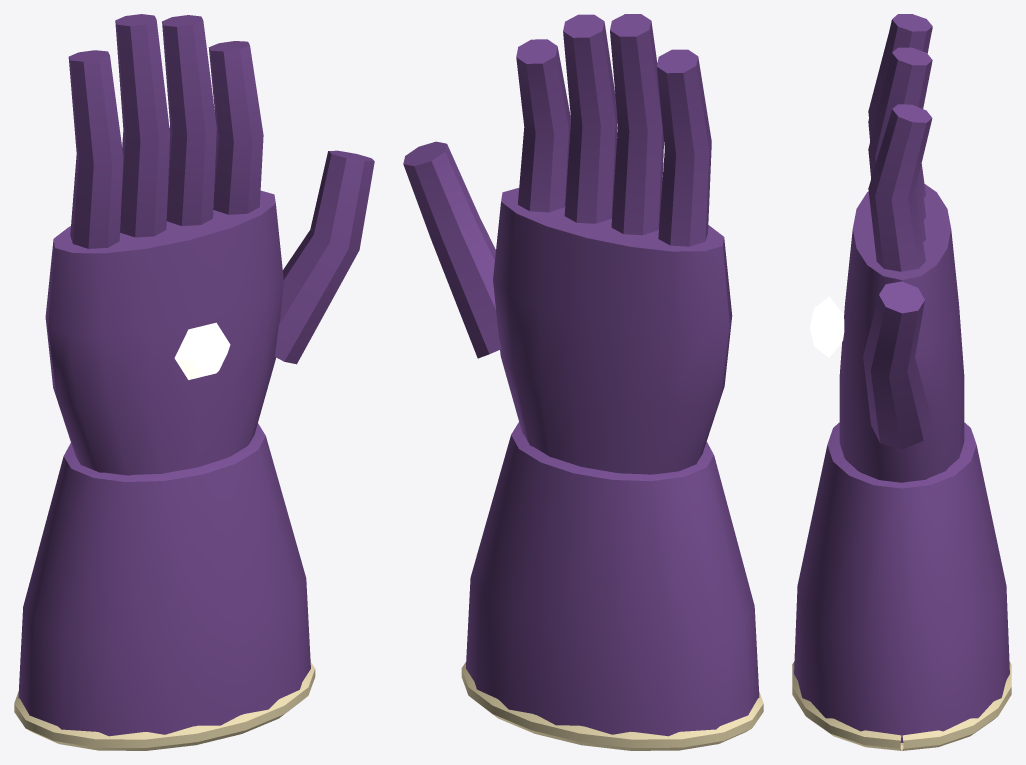
Rendered from sage_gloves.glb.
The picture shows the model from 3 angles, left to right: view 1: azimuth 30°, elevation 25°; view 2: azimuth 150°, elevation 25°; view 3: azimuth 270°, elevation 25°; orthographic projection. The views are drawn at different scales.
Visible parts, largest first — view 1: sage_gloves; view 2: sage_gloves; view 3: sage_gloves.
Part boxes in pixels (left/top/right/bottom): sage_gloves: left=14, top=14, right=374, bottom=750; sage_gloves: left=403, top=14, right=763, bottom=750; sage_gloves: left=792, top=14, right=1011, bottom=750.
Size of the model in its own units: 0.1481 by 0.2804 by 0.0845.
